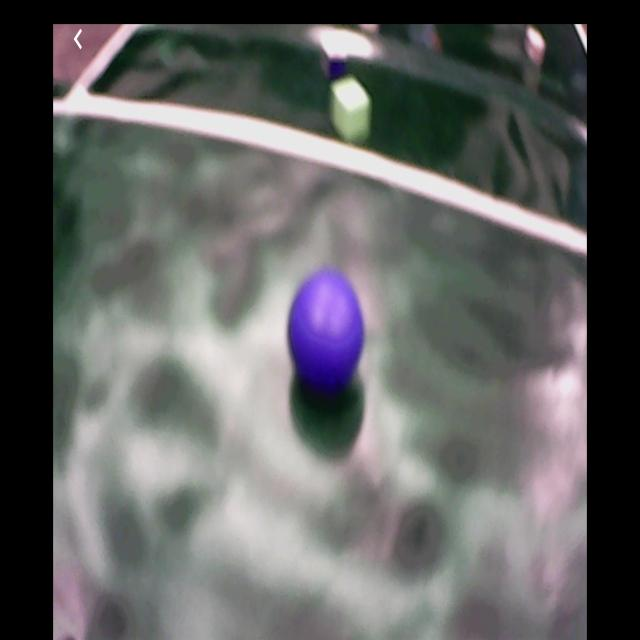ball: (290, 270, 364, 387)
